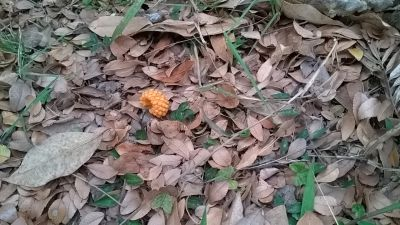eggs: (138, 87, 170, 119)
